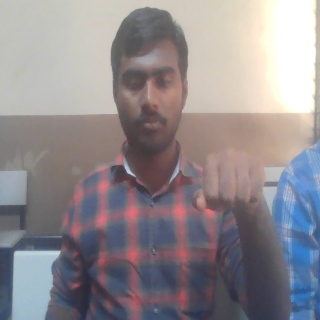Face: (112, 7, 190, 152)
Yes: (194, 149, 269, 219)
